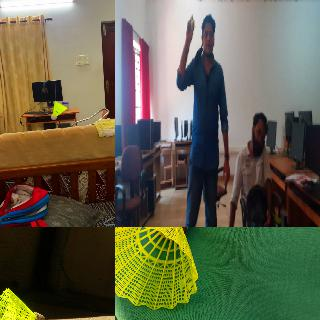shuttlecock: (115, 227, 198, 311), (0, 288, 46, 319), (51, 100, 67, 120), (190, 14, 195, 28)
